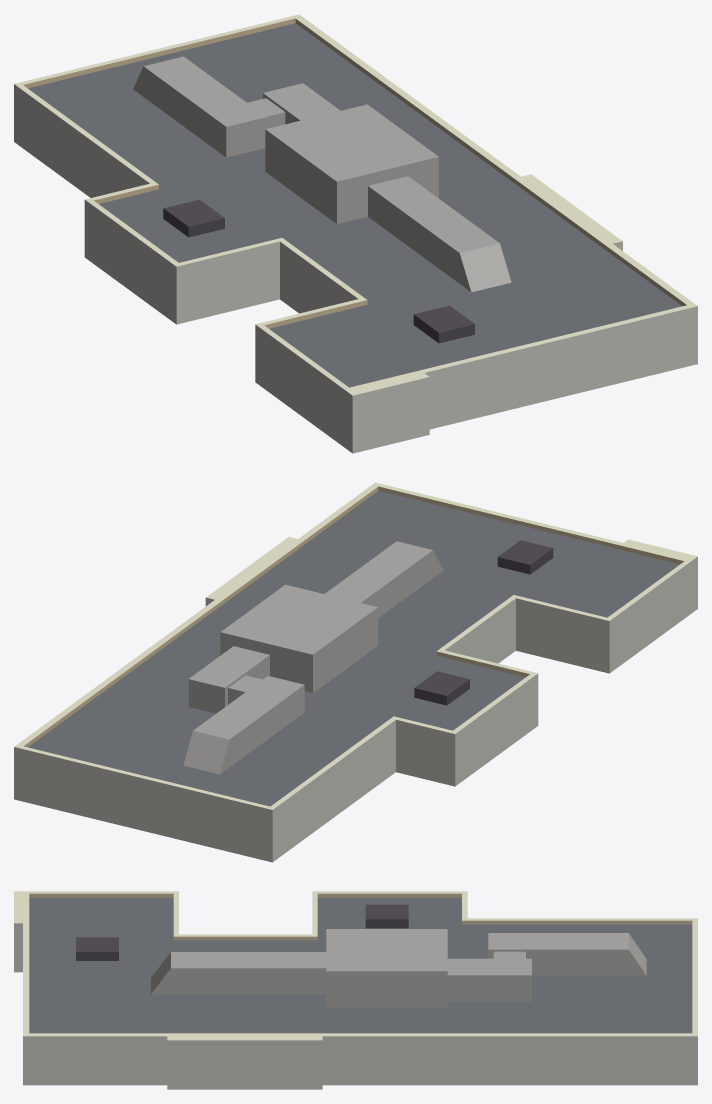
The model's file is building4_top.fbx.
The picture shows the model from 3 angles, top to bottom: view 1: azimuth 30°, elevation 25°; view 2: azimuth 150°, elevation 25°; view 3: azimuth 270°, elevation 25°; orthographic projection. The views are drawn at different scales.
Parts seen in each view (by area): view 1: building4_top; view 2: building4_top; view 3: building4_top.
Boxes of the visible parts, <box> form: building4_top: <box>14,14,697,453</box>; building4_top: <box>14,482,697,862</box>; building4_top: <box>14,891,697,1089</box>.
Bounding box in the file's own units: 780 × 198 × 1514.
